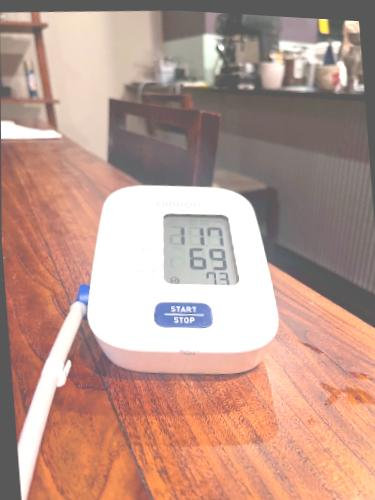bpm: (159, 207, 241, 293)
